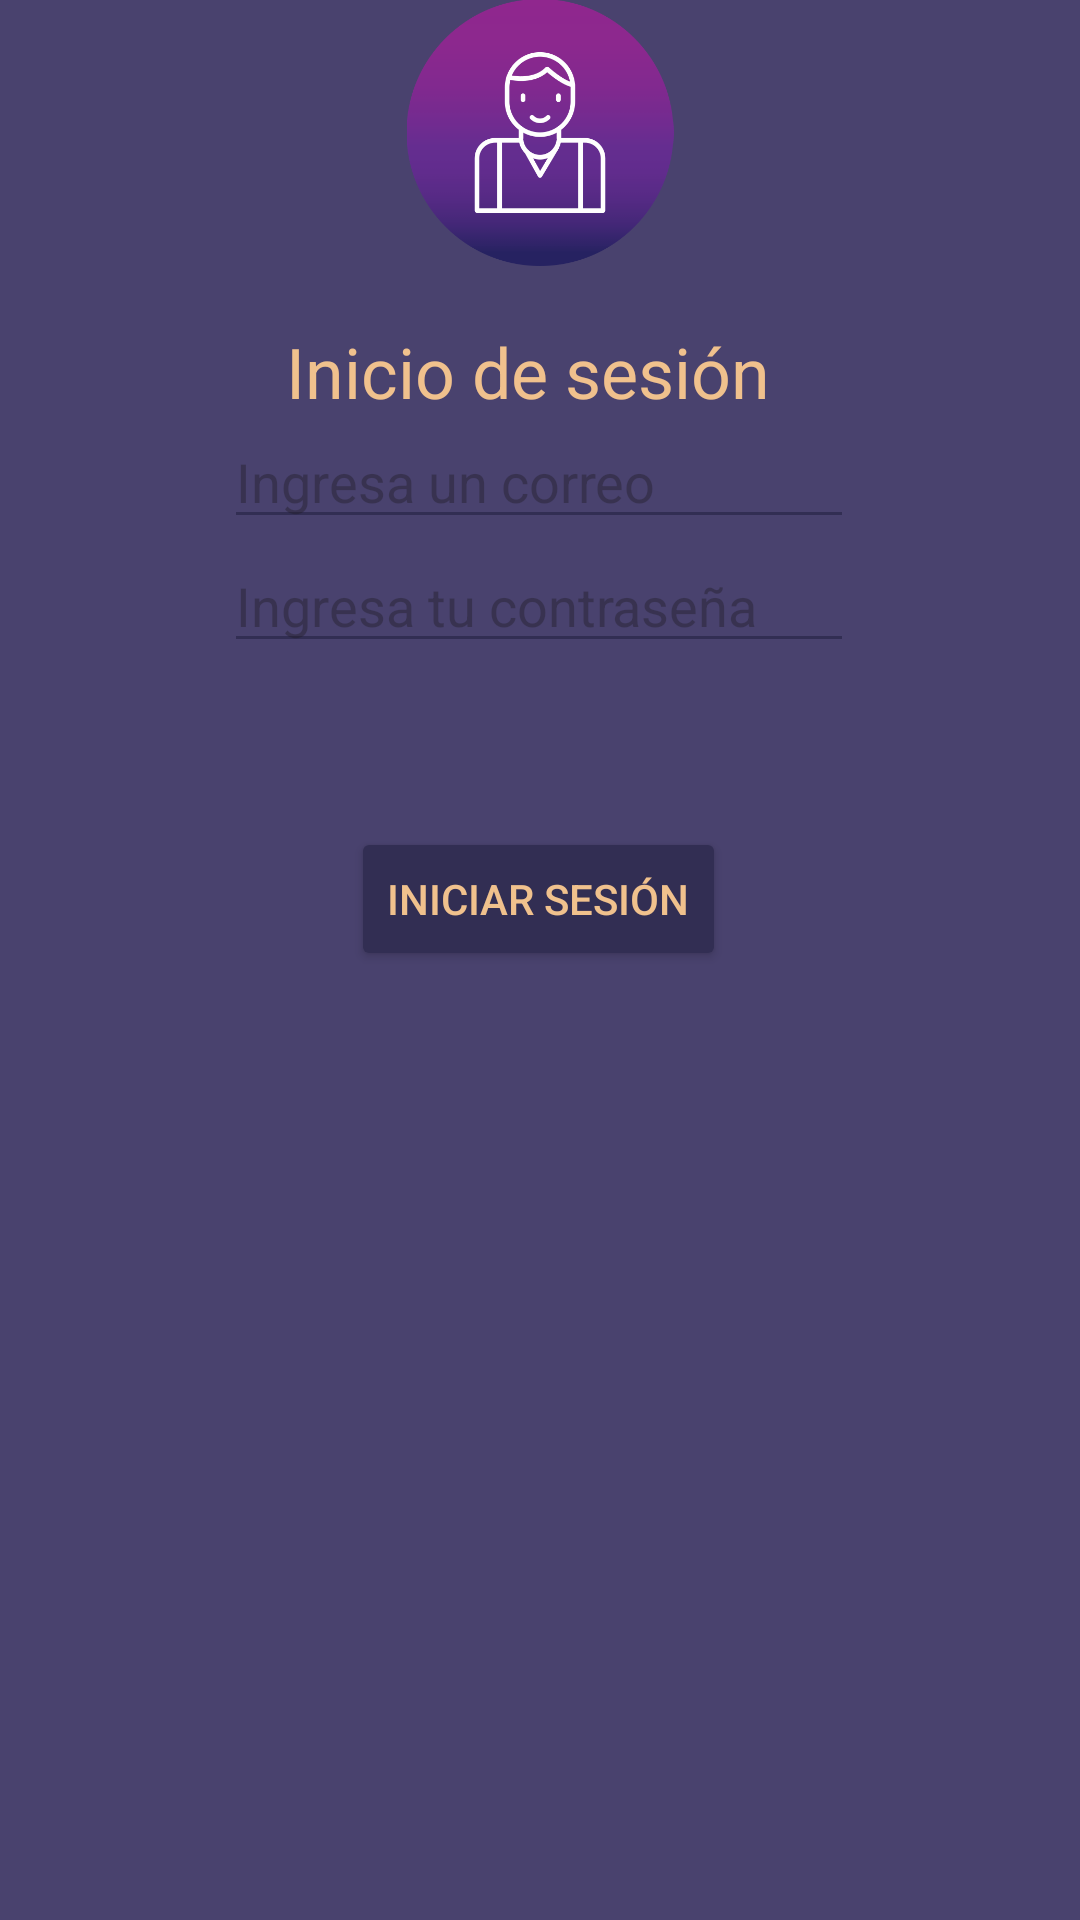

Where to tap for icons on this 1080 × 1920 app screen, as (x=x, y=y):
man: (x=540, y=133)
